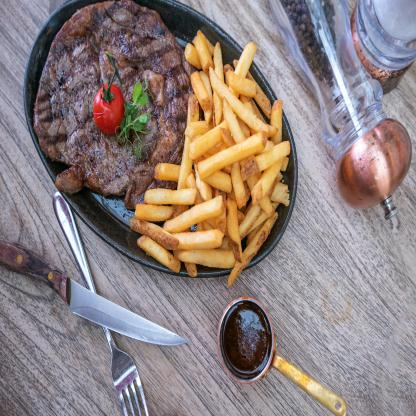Carne: (33, 0, 182, 192)
